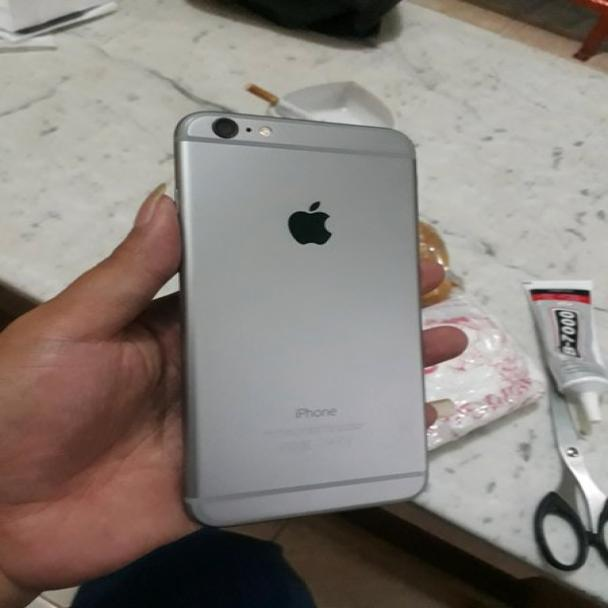Handphone: (168, 103, 434, 533)
